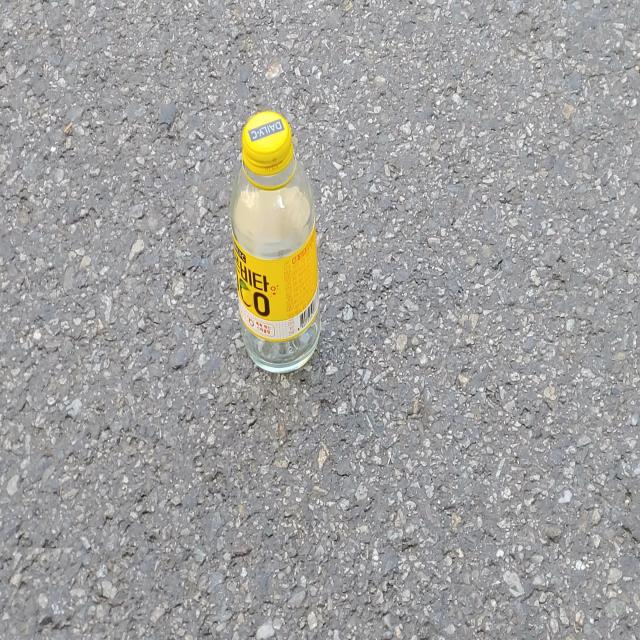glass: (230, 110, 321, 372)
